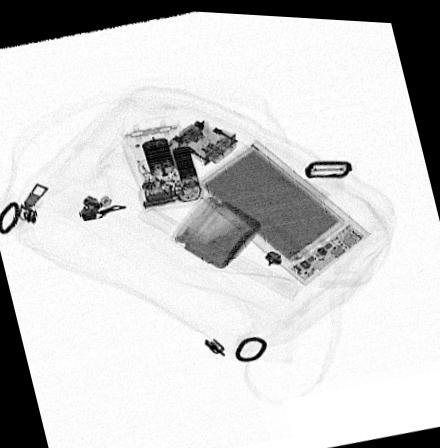Powerbank: (182, 135, 372, 283)
